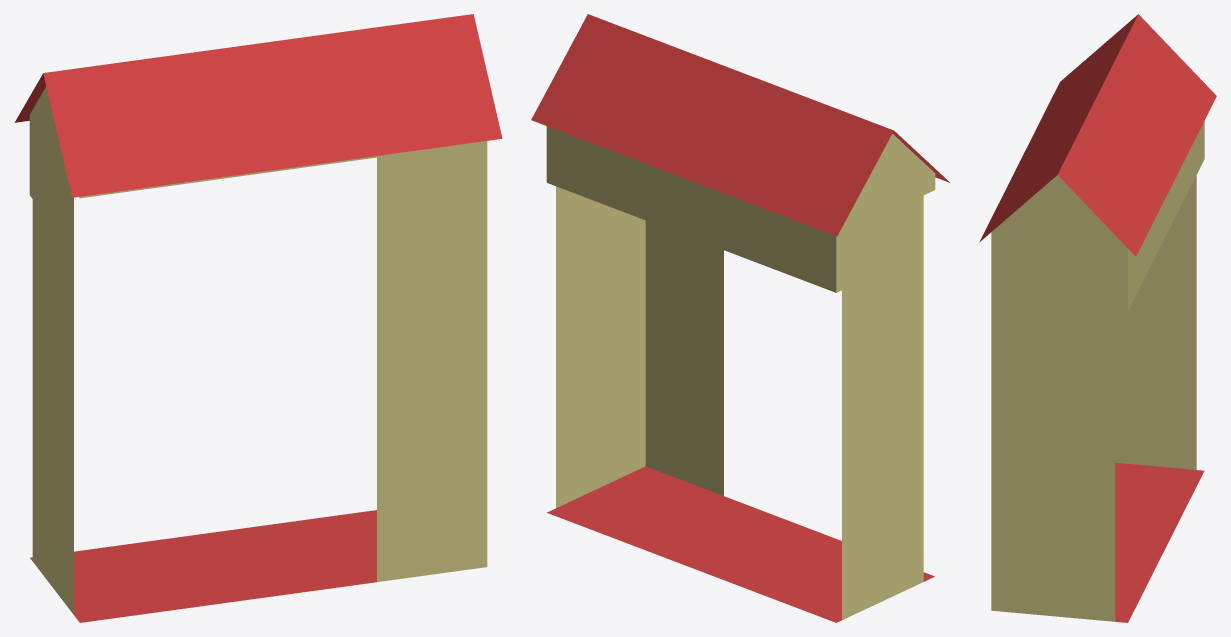
The picture shows the model from 3 angles, left to right: view 1: azimuth 30°, elevation 25°; view 2: azimuth 150°, elevation 25°; view 3: azimuth 270°, elevation 25°; orthographic projection. The views are drawn at different scales.
Parts seen in each view (by area): view 1: group_5, group_3, group_6; view 2: group_5, group_3, group_6; view 3: group_5, group_3, group_6.
Part boxes in pixels (x1,y1,x2,y2): group_5: (29, 86, 487, 614); group_3: (43, 14, 502, 197); group_6: (30, 510, 376, 622); group_5: (546, 126, 935, 619); group_3: (531, 14, 893, 236); group_6: (547, 466, 934, 622); group_5: (991, 121, 1204, 621); group_3: (979, 14, 1216, 256); group_6: (1115, 462, 1204, 622).
Size of the model in its own units: 9.92 by 5.7 by 11.8.
